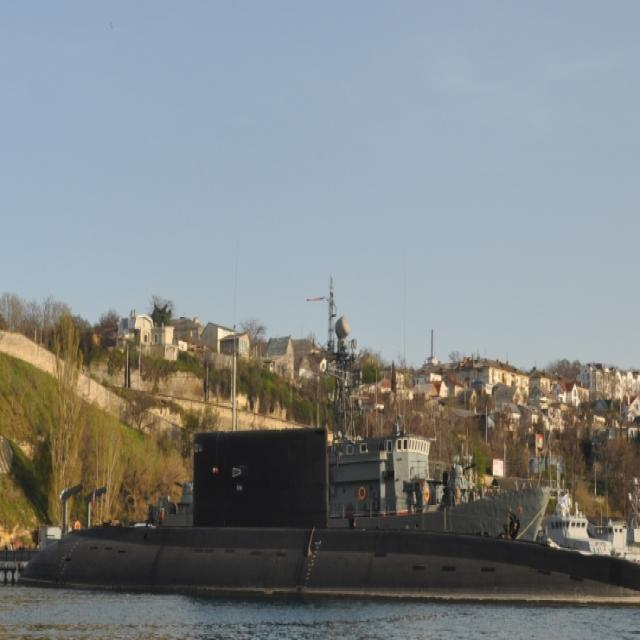submarine: (18, 429, 640, 604)
